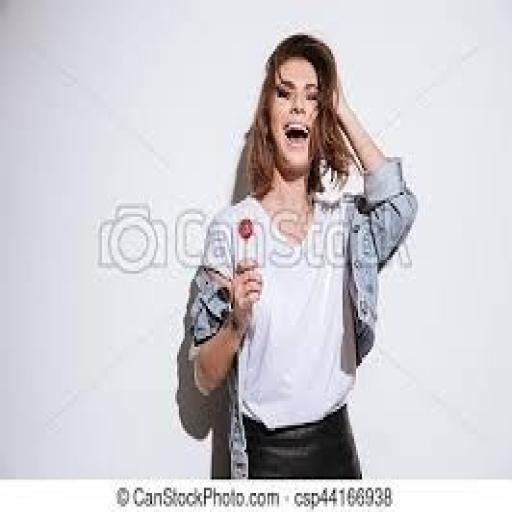laughing: (177, 27, 422, 477)
